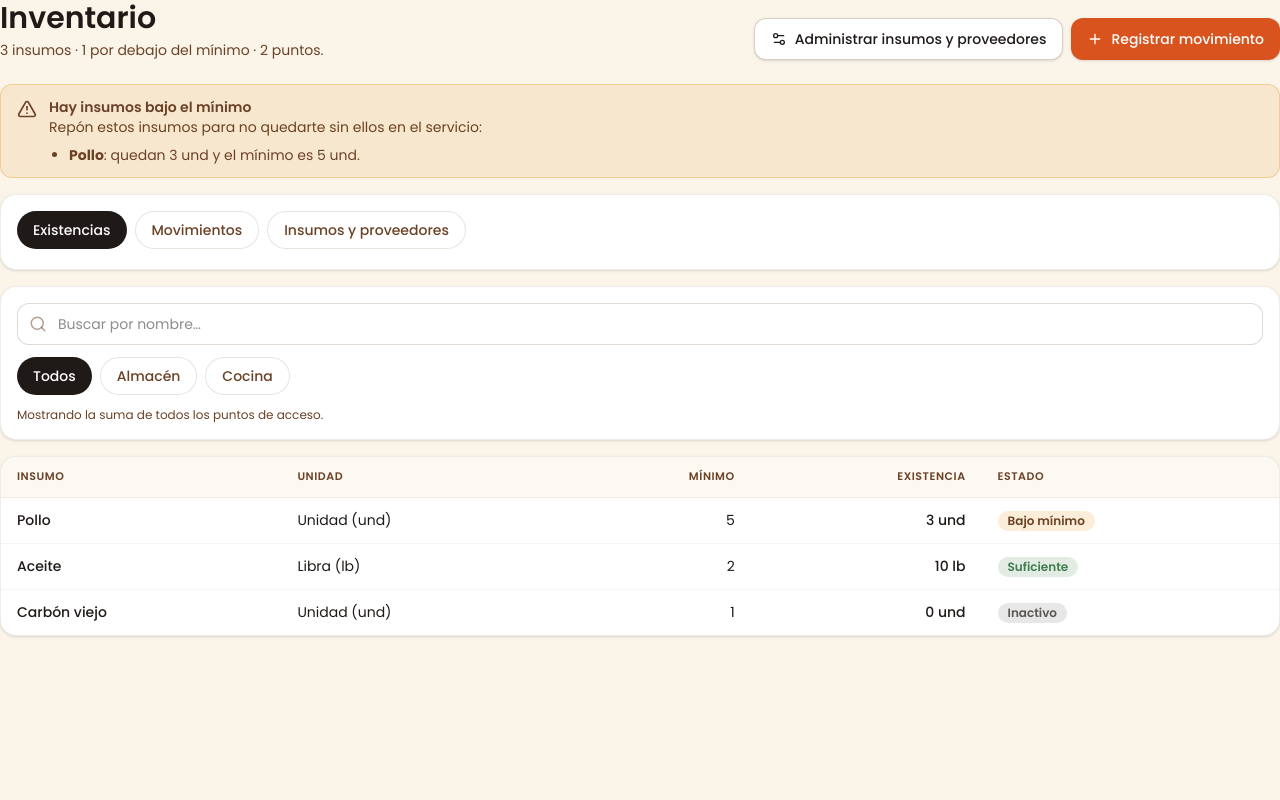
Inventario › una salida que no alcanza deja el error del servidor en la ventana
The image size is (1280, 800).
Click the button "Registrar movimiento" at x=1176, y=39, box [1071,18,1279,60]
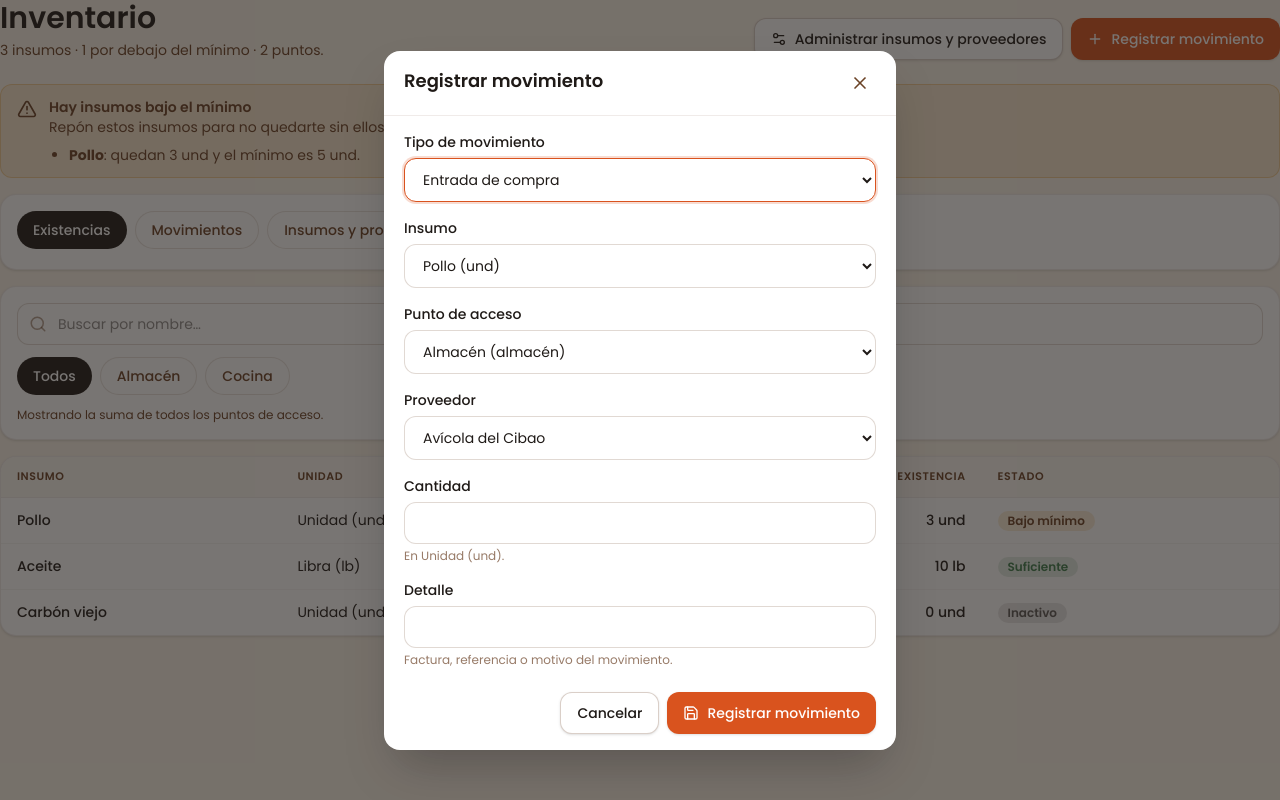
Select "Salida por consumo" in the dropdown labelled "Tipo de movimiento" at x=640, y=180, box [404,158,876,202]
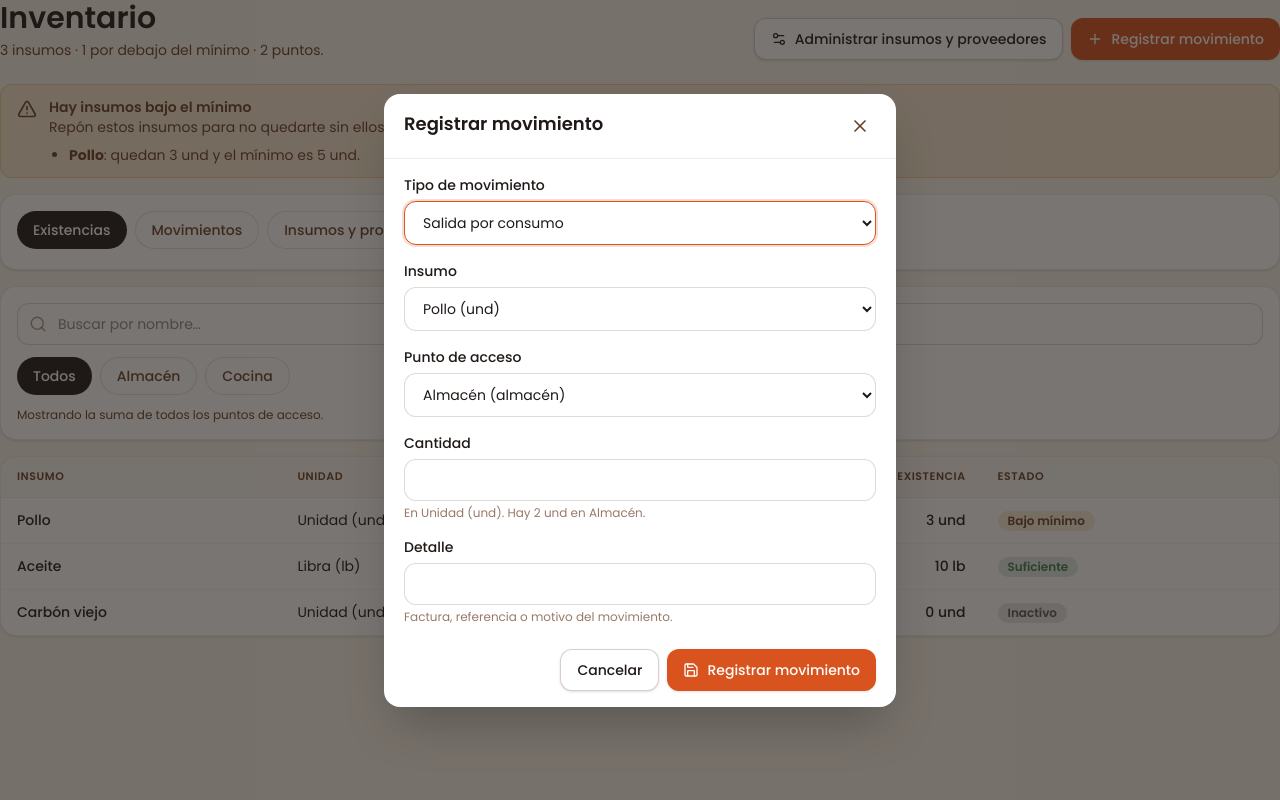
Type "99" into the field labelled "Cantidad" at x=640, y=480, box [404,458,876,500]
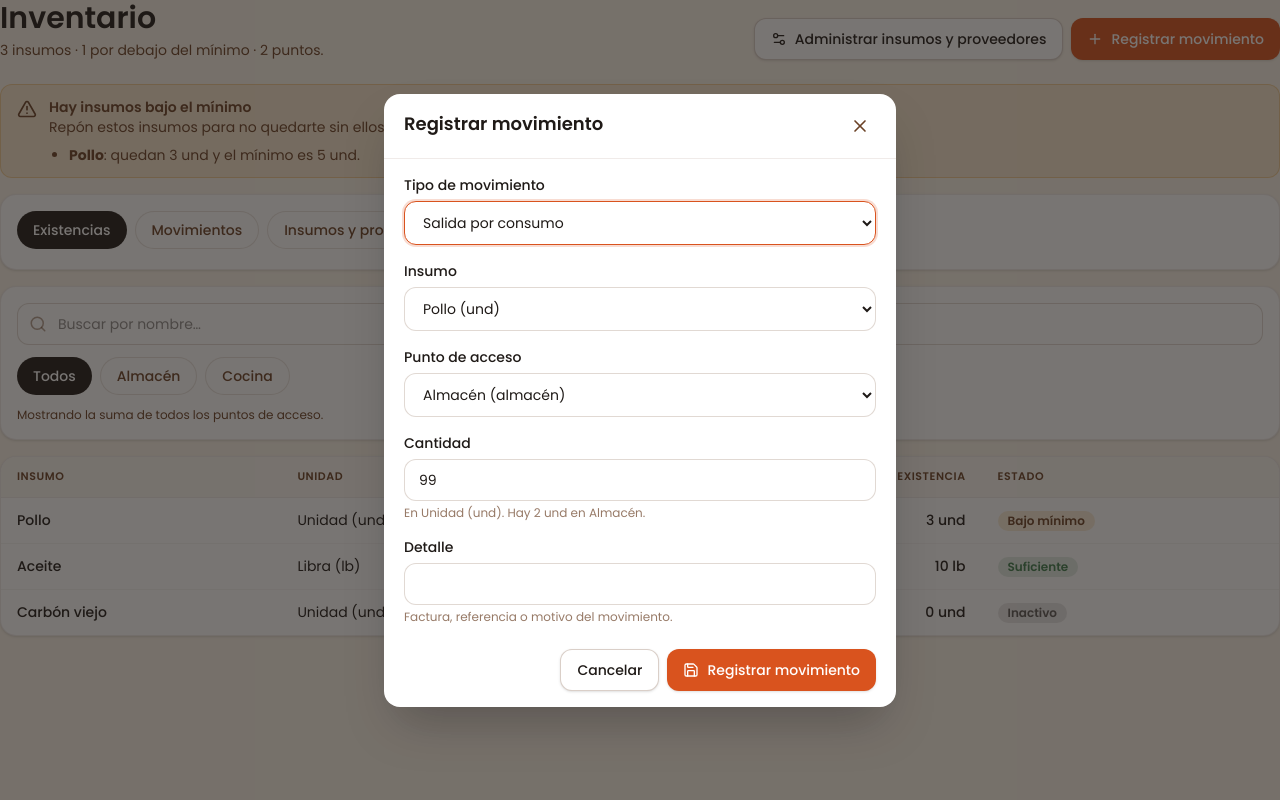
Type "Consumo de prueba" into the field labelled "Detalle" at x=640, y=584, box [404,562,876,604]
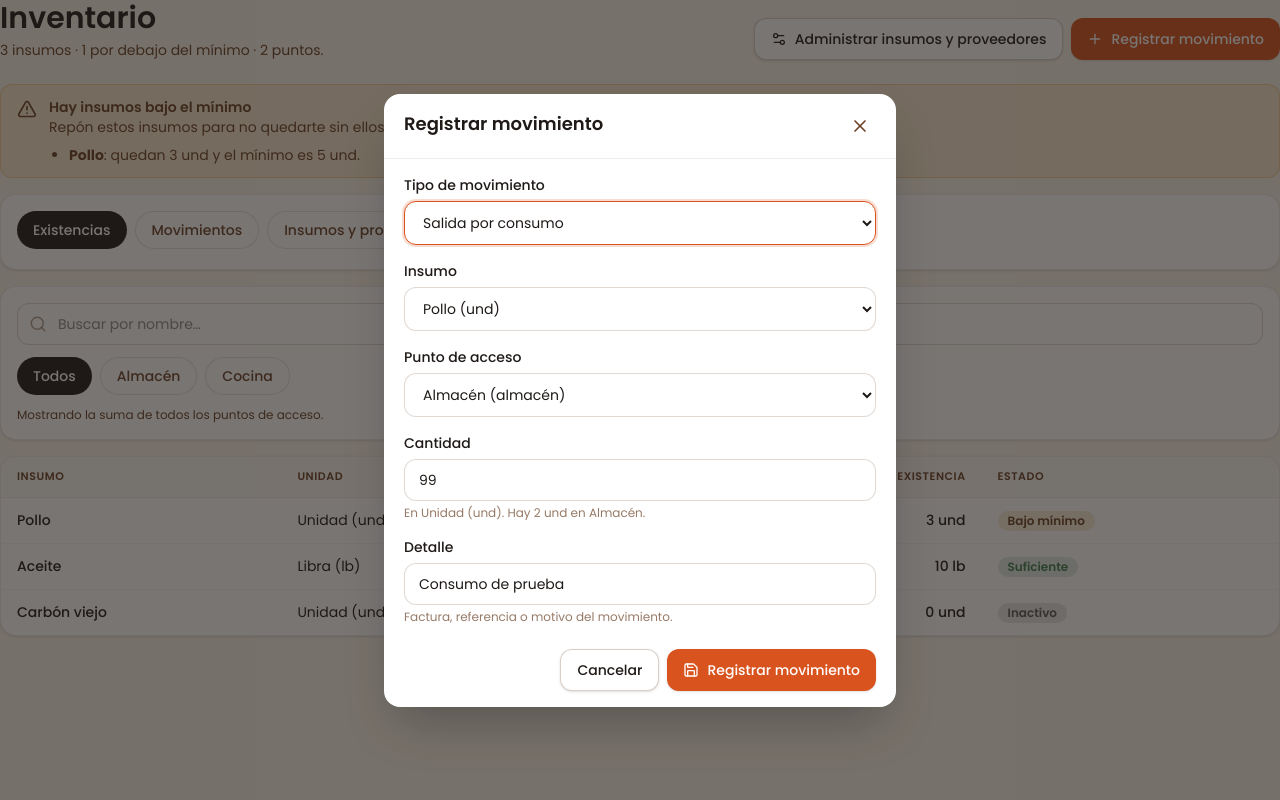
Click the button "Registrar movimiento" at x=772, y=670, box [667,648,876,690]
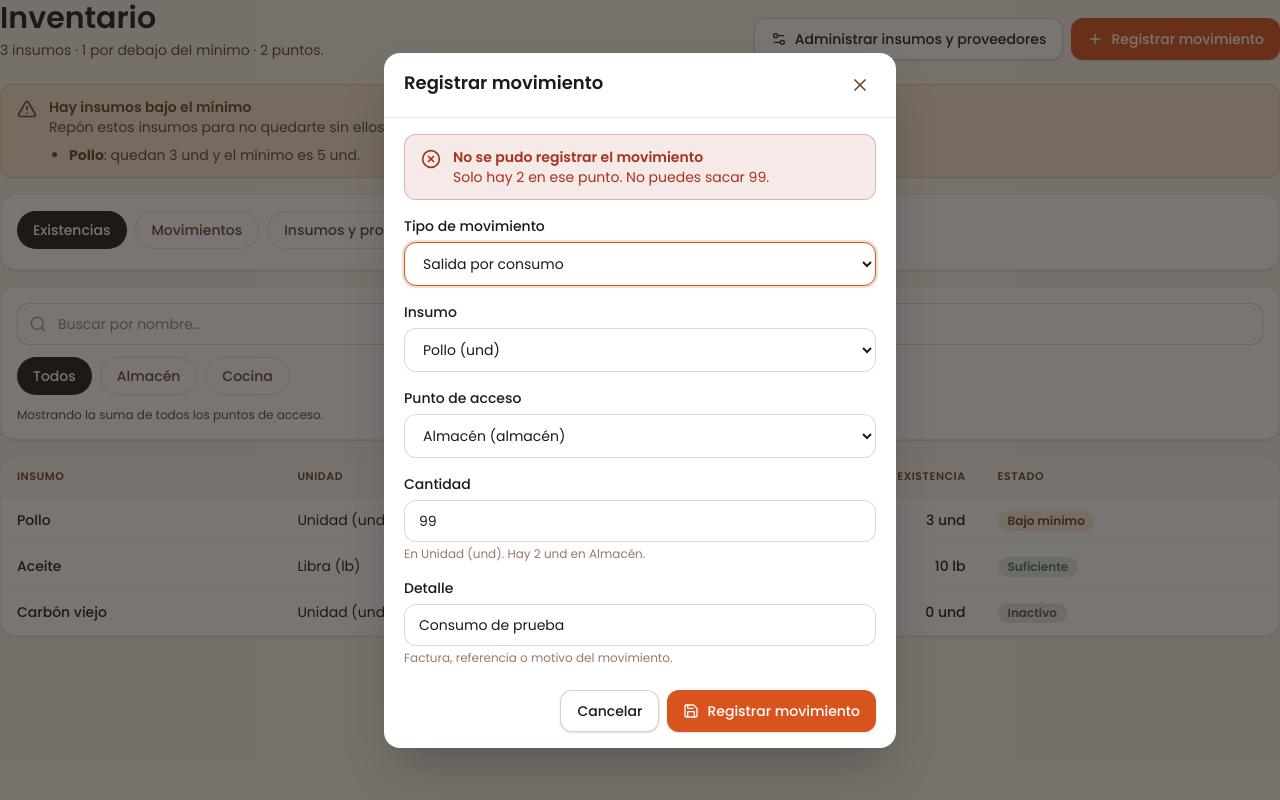
Check: the text "Pollo" shows "3 und", box [1,498,1279,543]
Check: the dialog "Registrar movimiento" is shown, box [384,52,896,748]
Check: the text "Solo hay 2 en ese punto. No puedes sacar 99." is shown, box [453,166,769,186]
